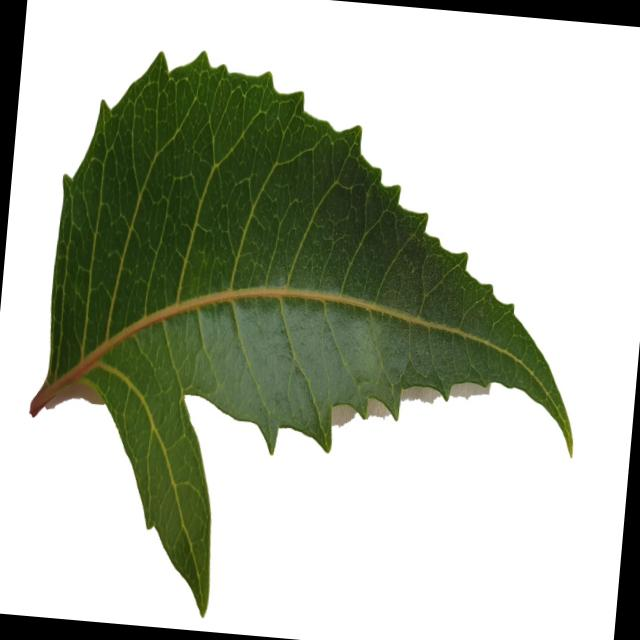Medicinal-Neem: (5, 31, 605, 640)
